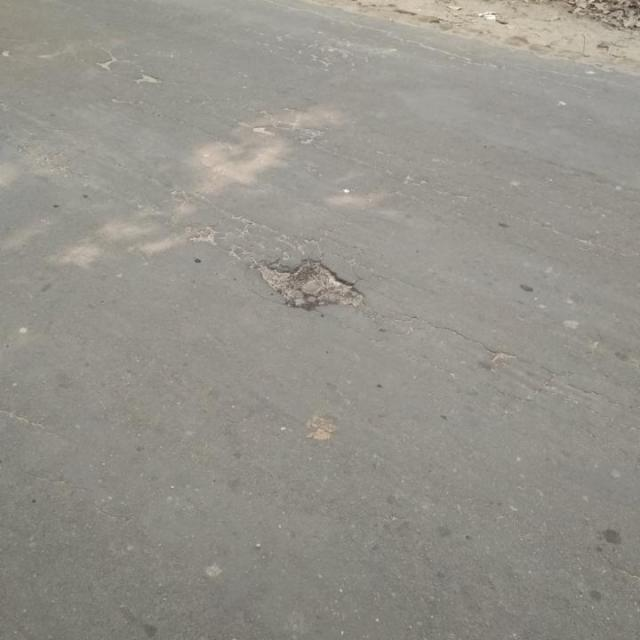pothole: (253, 254, 370, 308)
